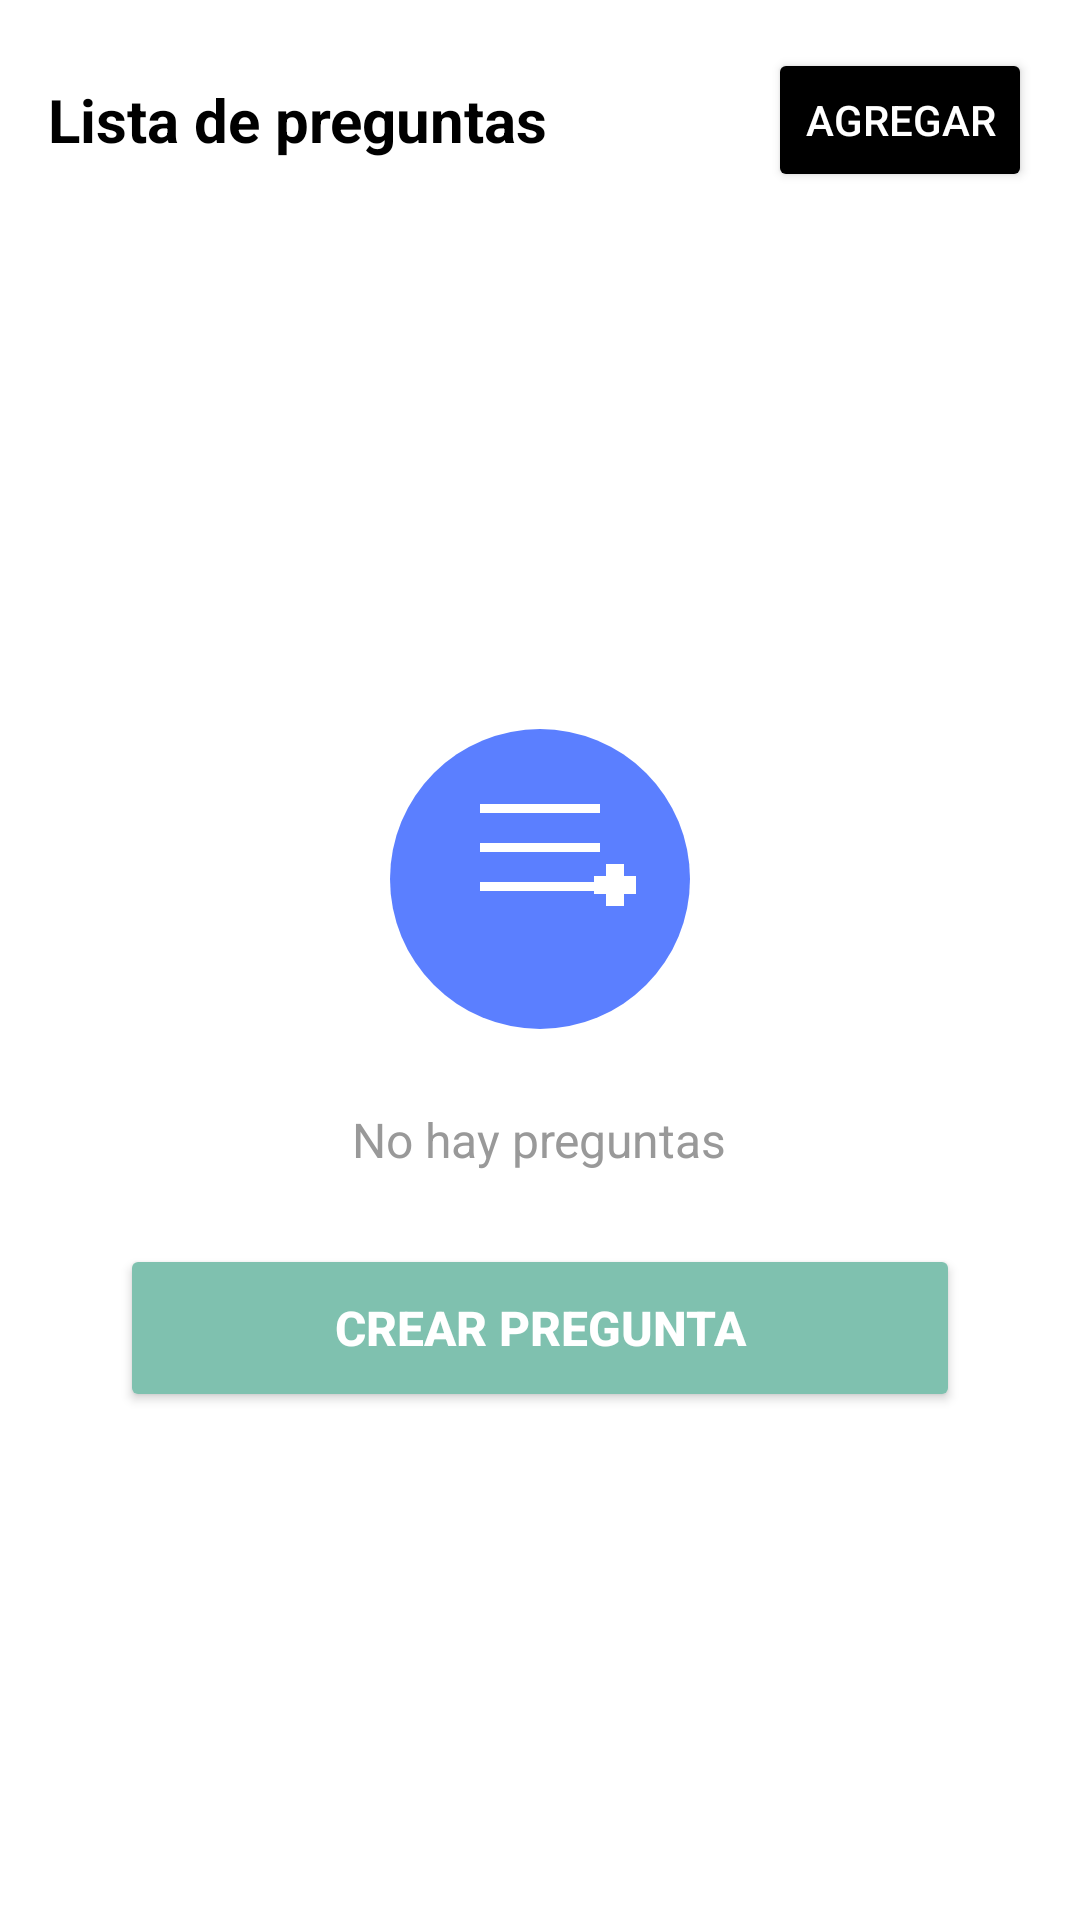

Icons on this 1080 x 1920 Android screen, each with its box as (x1, y1, x2, y2):
empty list: (390, 729, 690, 1029)
